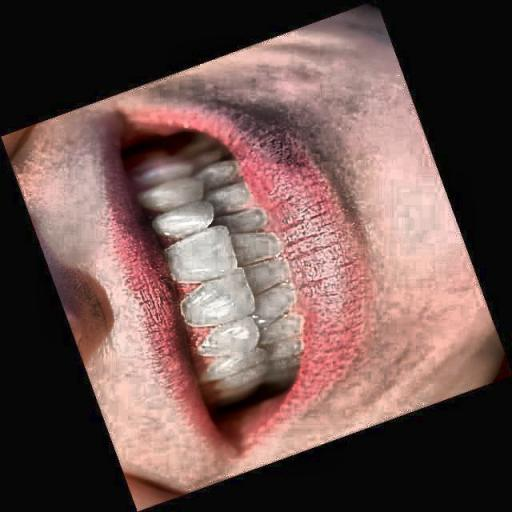Healthy: (77, 92, 365, 402)
